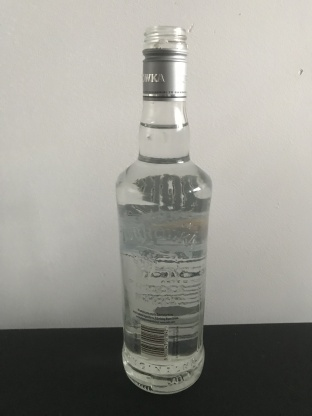nakretka: (140, 24, 189, 102)
